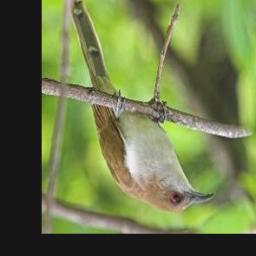Cuckoo: (70, 0, 216, 214)
